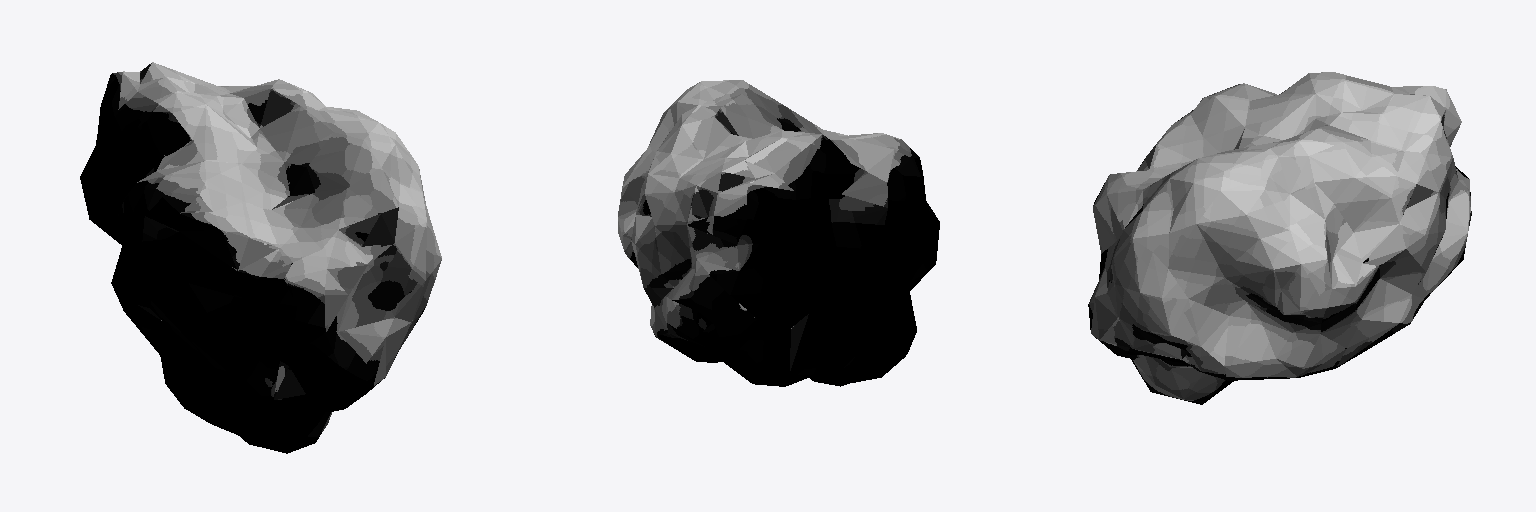
3 renders of one model, left to right at view 1: azimuth 30°, elevation 25°; view 2: azimuth 150°, elevation 25°; view 3: azimuth 270°, elevation 25°, orthographic.
Visible parts, largest first — view 1: HRes_Icosphere; view 2: HRes_Icosphere; view 3: HRes_Icosphere.
Part boxes in pixels (x1,y1,x2,y2): HRes_Icosphere: (80,62,441,453); HRes_Icosphere: (618,80,939,386); HRes_Icosphere: (1088,72,1471,404).
Size of the model in its own units: 2.06 by 2.25 by 2.56.
Materials: 1 (1 with a texture image).